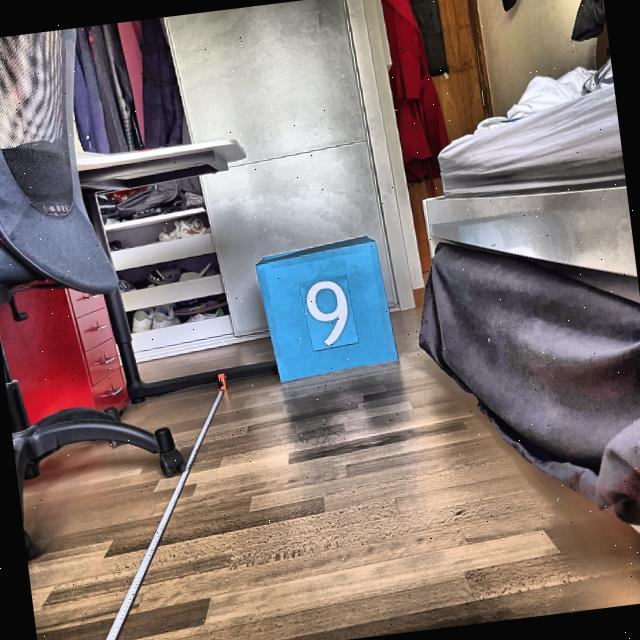blue box: (250, 230, 404, 386)
nine: (301, 274, 355, 350)
